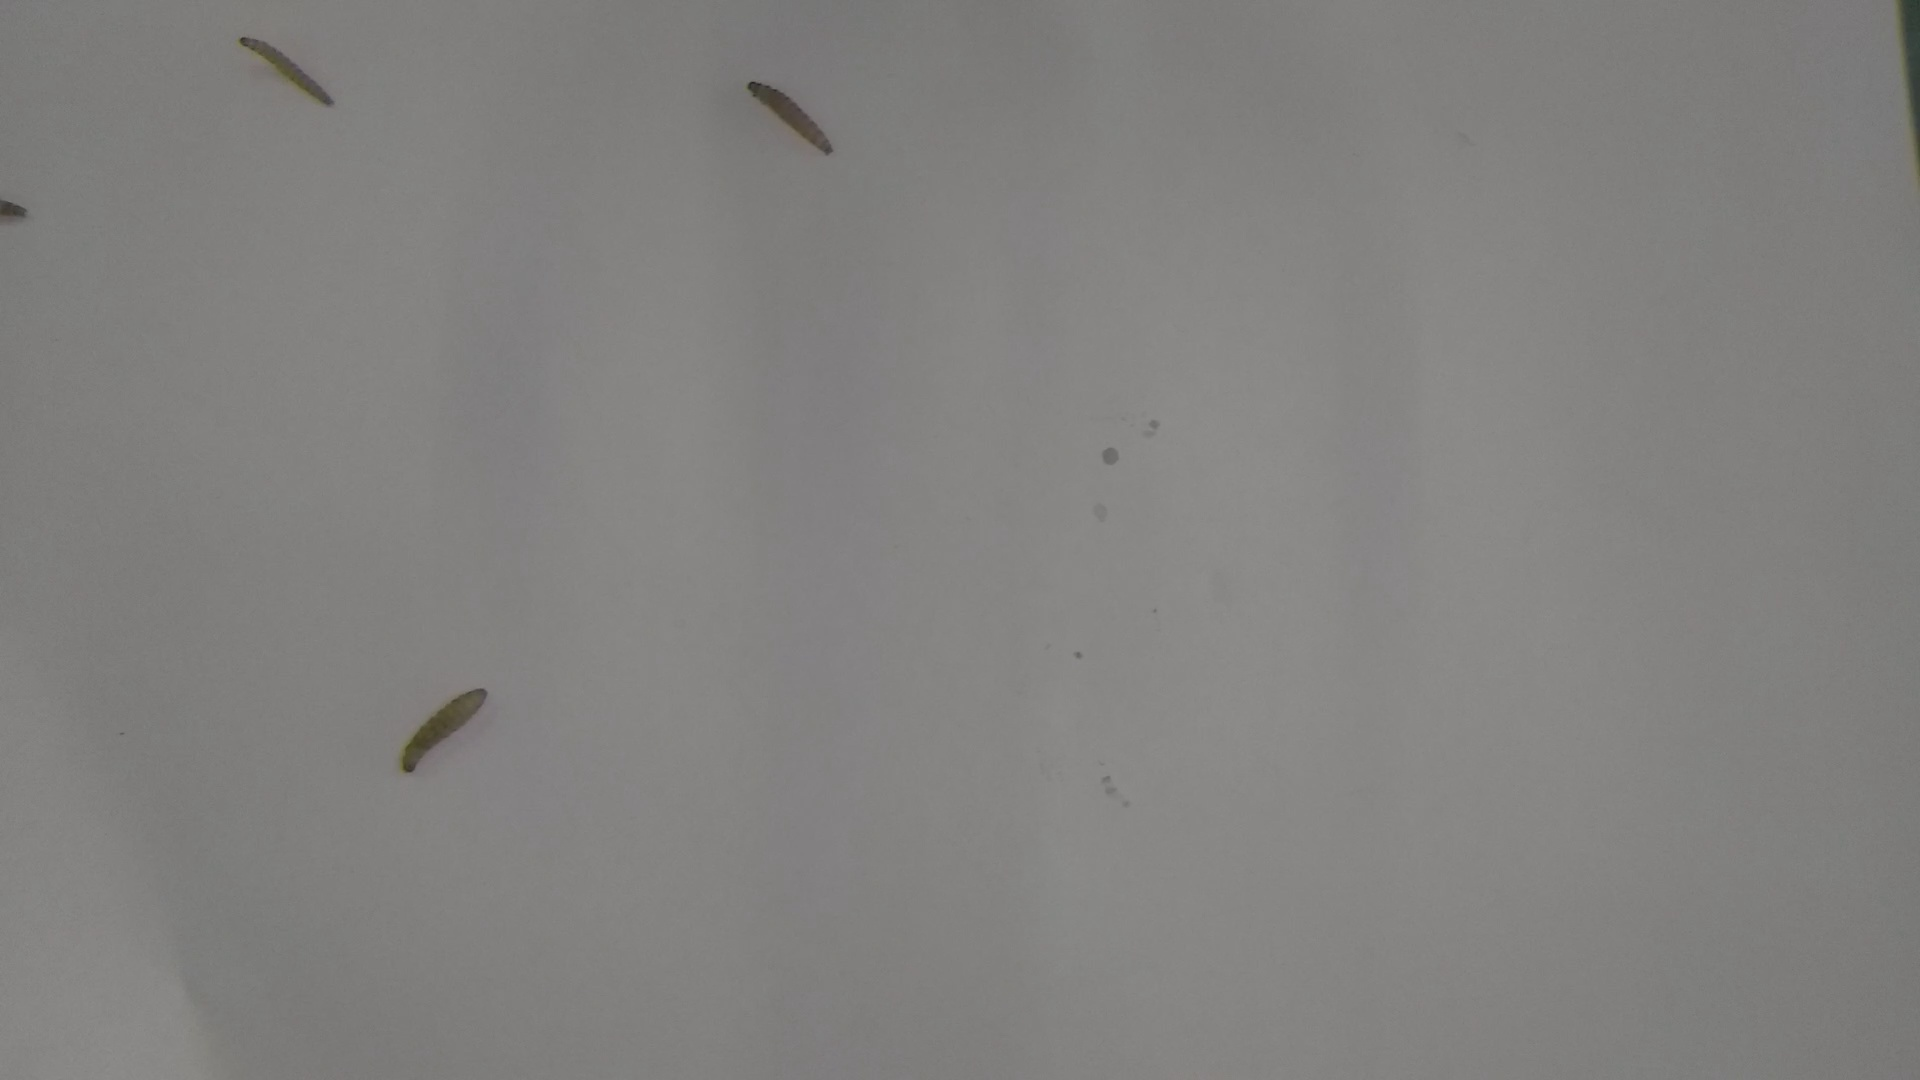efsb: (386, 679, 497, 790), (231, 32, 352, 120), (741, 73, 839, 165)
